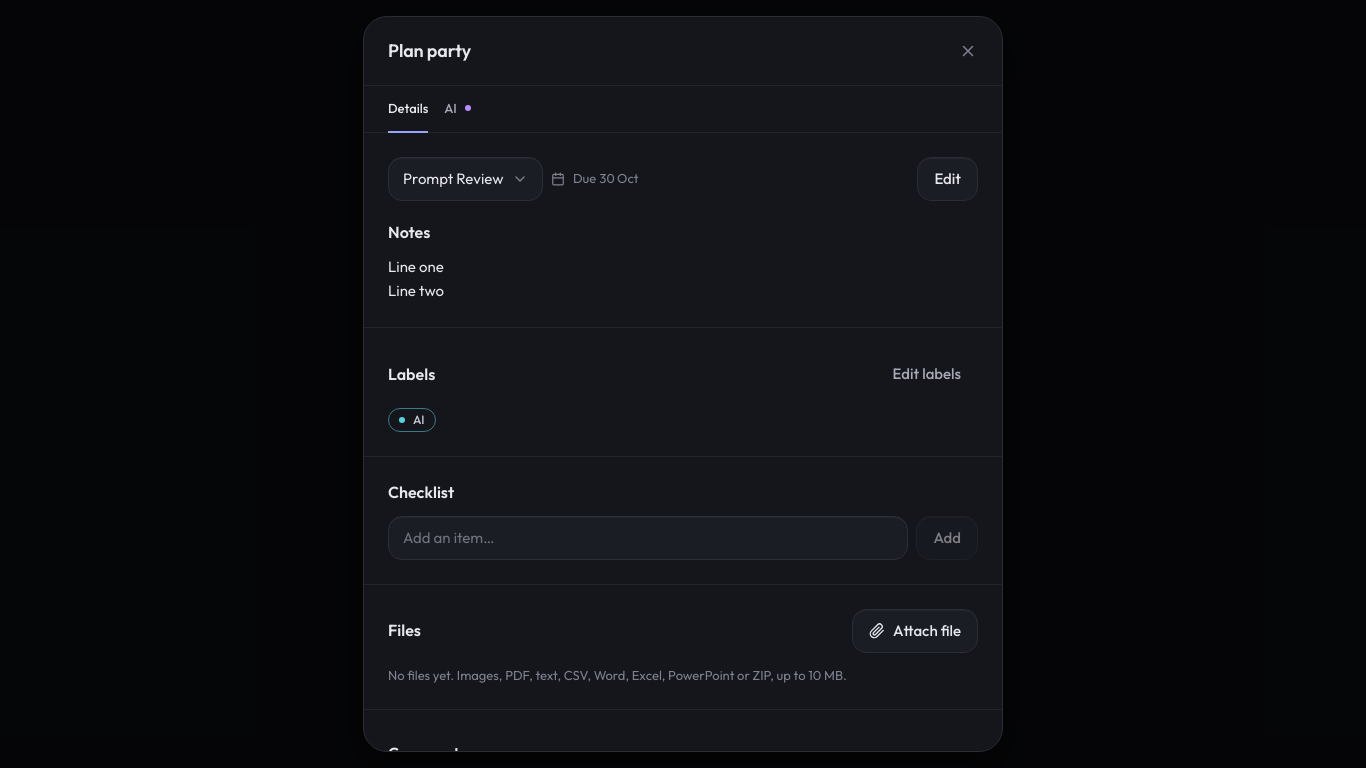
Scenario: TaskDetails › gives AI tasks an AI tab, kept apart from the rest of the task
The width and height of the screenshot is (1366, 768).
Expected: the heading "Claude's prompt" is not shown
Click the tab with aria-label "AI (Needs your approval)". click: (458,109)
box: [444, 86, 471, 133]
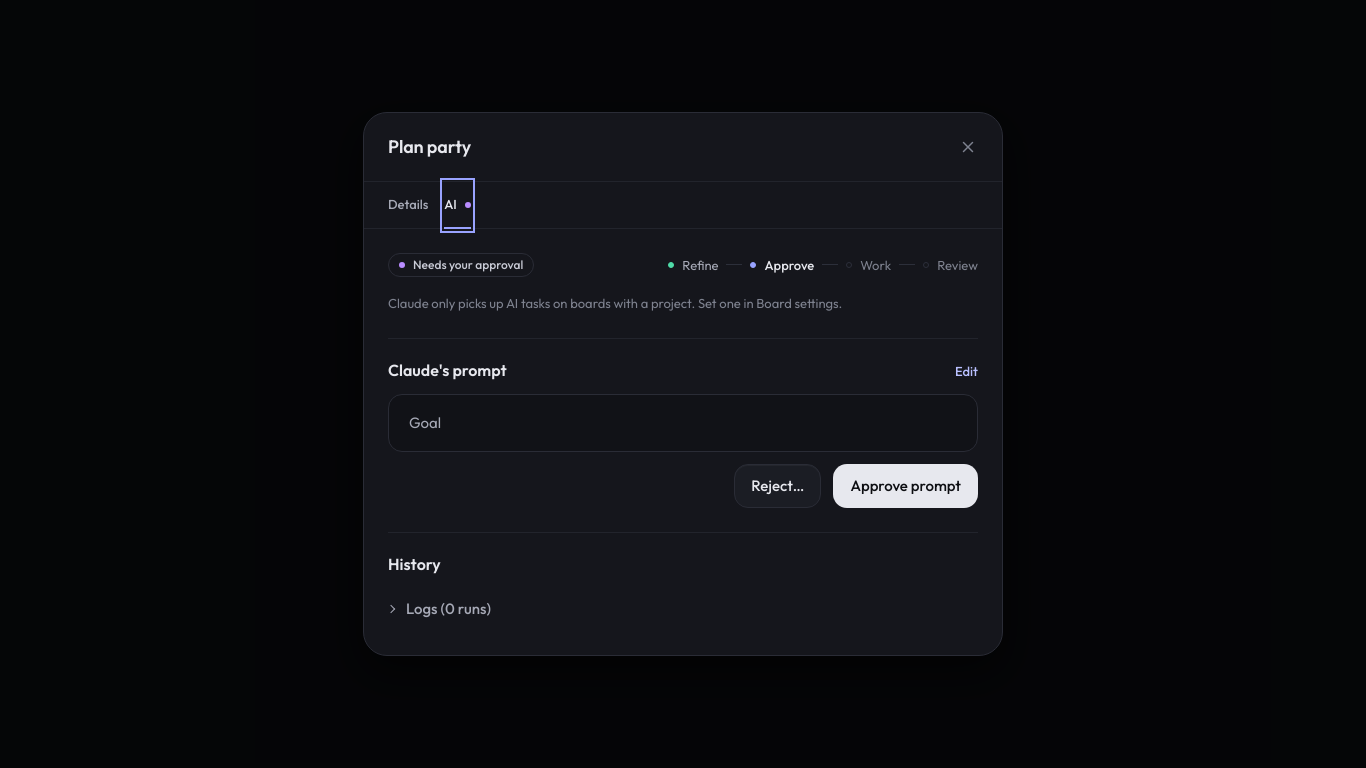
Result: the heading "Claude's prompt" is shown at [388, 359, 507, 381]
Result: the heading "Notes" is gone
